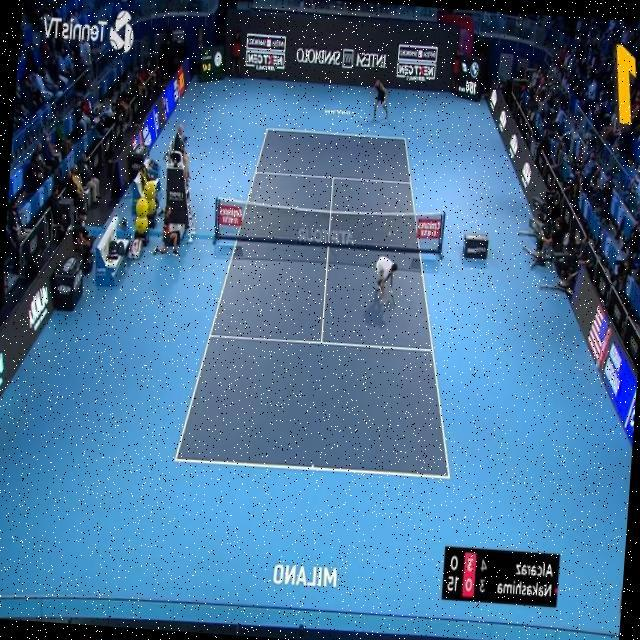court: (174, 122, 474, 481)
net: (212, 195, 445, 255)
player: (372, 254, 401, 308)
